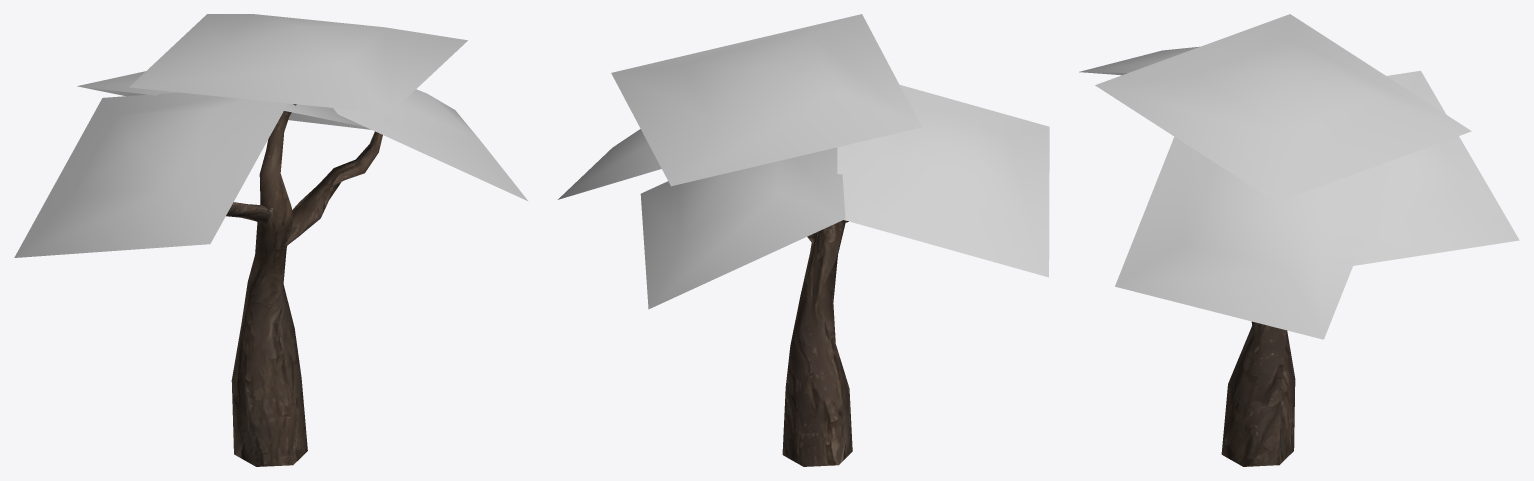
The model's file is Tree_9_Red.FBX.
3 views of the same model, side by side, from view 1: azimuth 30°, elevation 25°; view 2: azimuth 150°, elevation 25°; view 3: azimuth 270°, elevation 25° (orthographic). The views are drawn at different scales.
Parts seen in each view (by area): view 1: Object009, Object012; view 2: Object009, Object012; view 3: Object009, Object012.
Part boxes in pixels (bbox=[...]): Object009: bbox=[14, 14, 527, 257]; Object012: bbox=[226, 104, 382, 466]; Object009: bbox=[558, 14, 1049, 309]; Object012: bbox=[782, 220, 852, 466]; Object009: bbox=[1079, 14, 1519, 339]; Object012: bbox=[1221, 321, 1295, 466].
Size of the model in its own units: 186 by 147 by 148.
